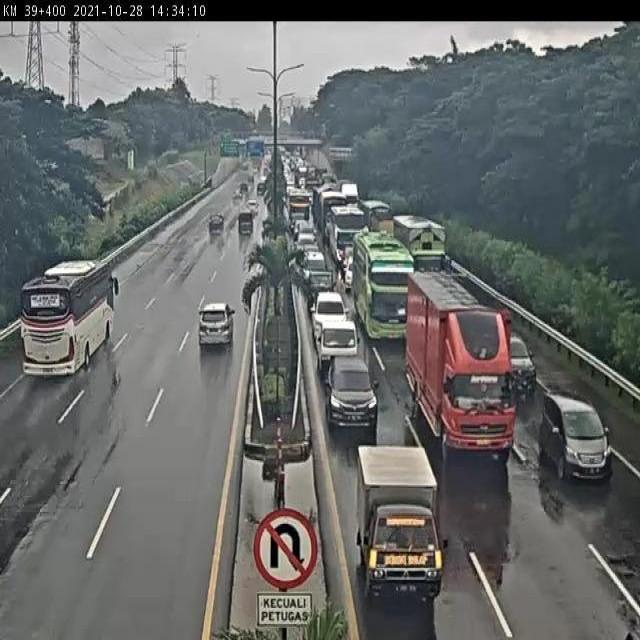car: (356, 444, 449, 599), (543, 393, 615, 480), (324, 347, 378, 423), (490, 327, 536, 400), (314, 314, 357, 366), (198, 304, 234, 348), (309, 292, 348, 331), (303, 269, 336, 304), (303, 251, 328, 271), (342, 252, 357, 285), (297, 234, 317, 258), (293, 219, 316, 239)
truck: (408, 272, 514, 455), (19, 259, 119, 376), (350, 229, 411, 335), (392, 216, 453, 292), (330, 208, 366, 265)
